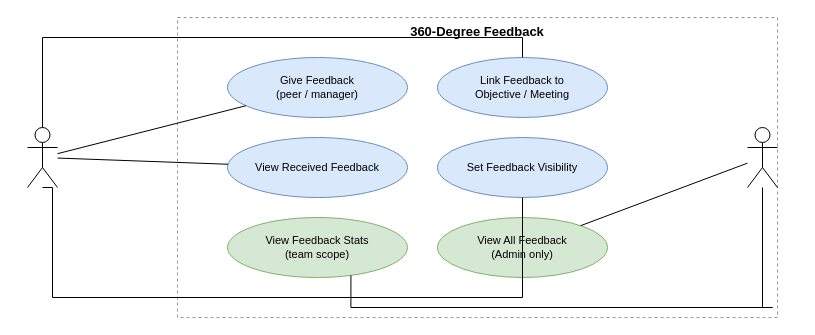
The diagram is 815 pixels wide and 335 high, and some of its shapes have lost their labels. Here are the shapes that lost their labels. From the top down, the centre of each, then its label:
At (x=42, y=157): "User (any role)".
At (x=762, y=157): "Admin / Team Leader".
